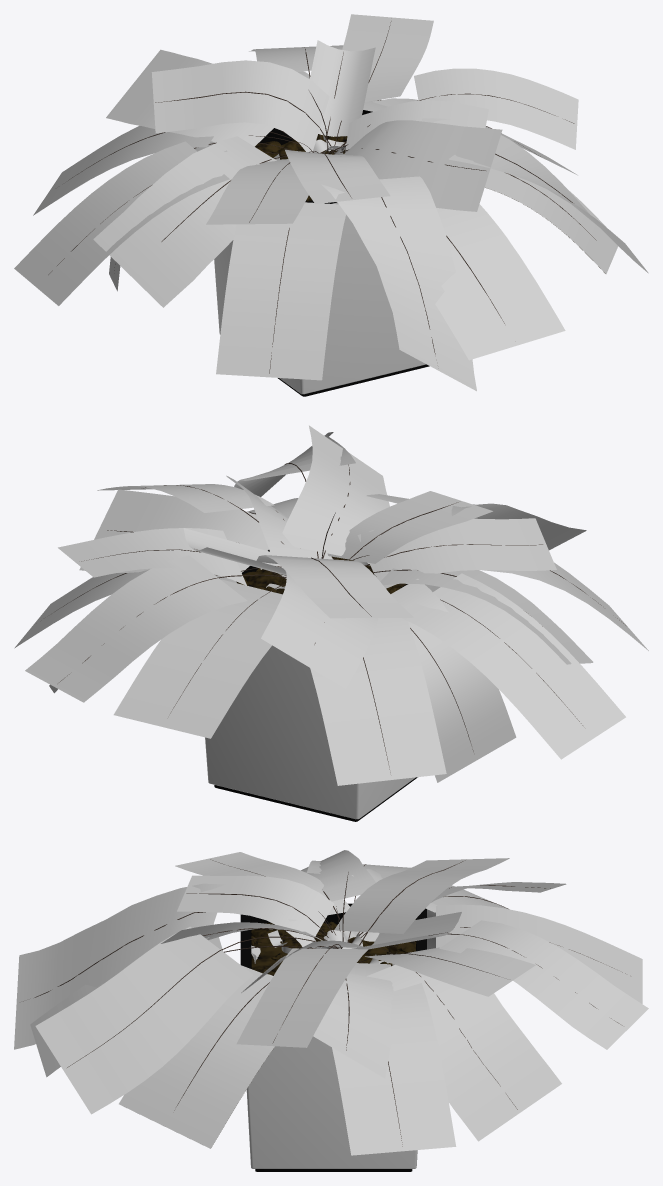
The model's file is FlowerPot.fbx.
3 renders of one model, top to bottom at view 1: azimuth 30°, elevation 25°; view 2: azimuth 150°, elevation 25°; view 3: azimuth 270°, elevation 25°, orthographic. The views are drawn at different scales.
Visible parts, largest first — view 1: FlowerPot; view 2: FlowerPot; view 3: FlowerPot.
Part boxes in pixels (bbox=[...]): FlowerPot: bbox=[14, 14, 648, 396]; FlowerPot: bbox=[14, 425, 648, 821]; FlowerPot: bbox=[14, 850, 648, 1171].
Bounding box in the file's own units: 6.44 × 6.65 × 3.
